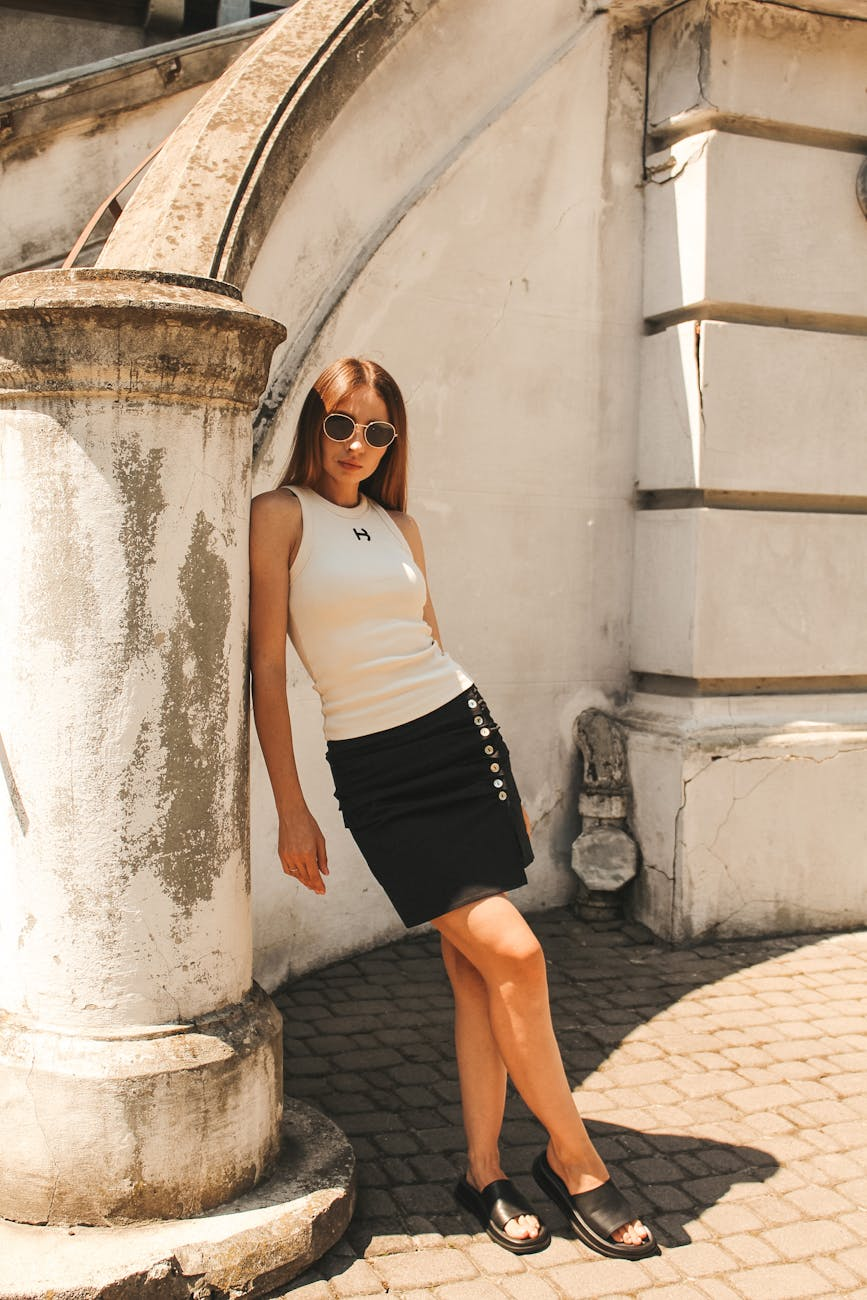opened_foot: (532, 1144, 666, 1260), (452, 1162, 553, 1255)
short_medium_skirt: (314, 679, 550, 924)
sleeveless_top: (263, 488, 450, 737)
